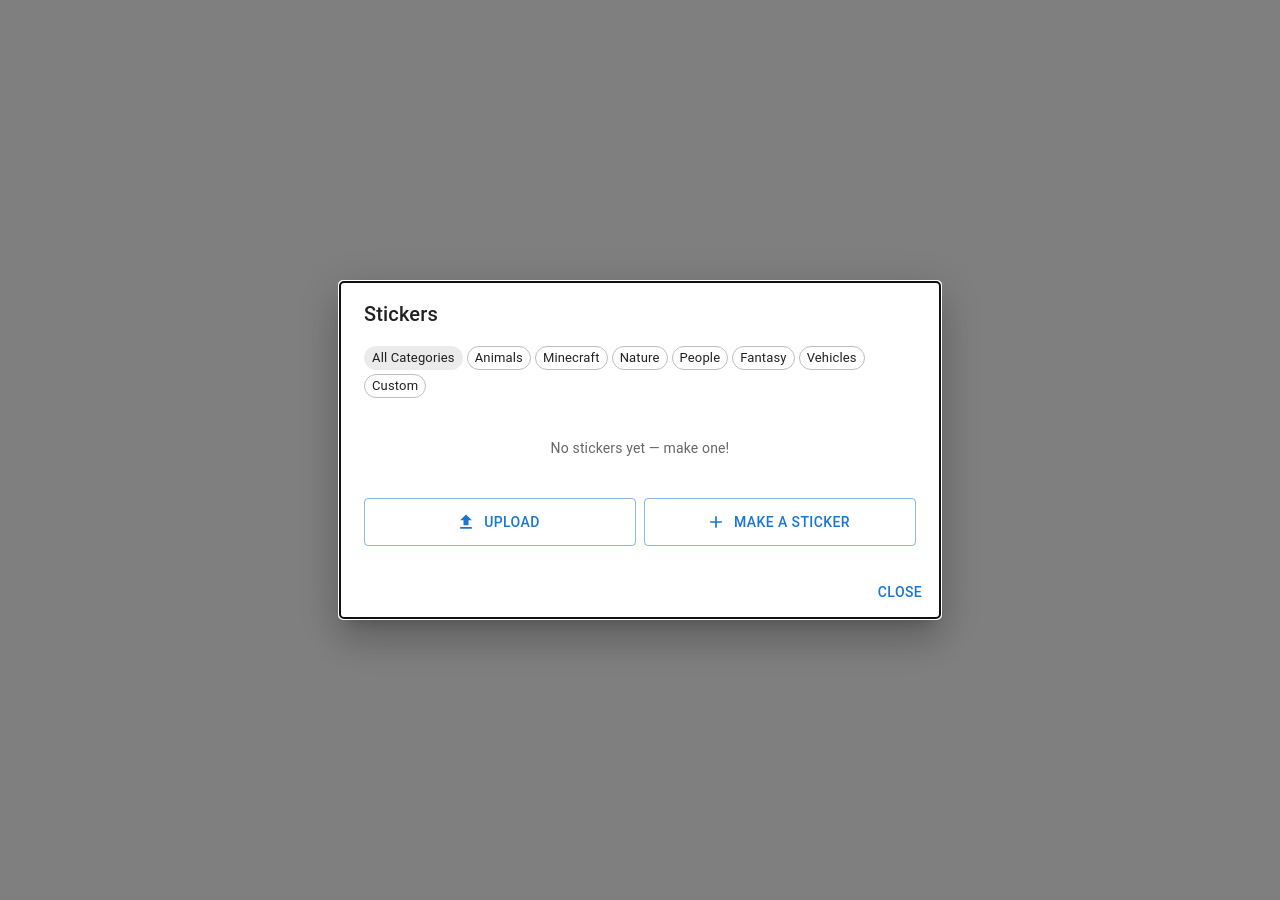
Test: StickerPicker — the in-book door tells the same truth › names the refusal and offers the server’s rewordings as taps
The width and height of the screenshot is (1280, 900).
Click the button "Make a sticker": x=780, y=522 [644,498,916,546]
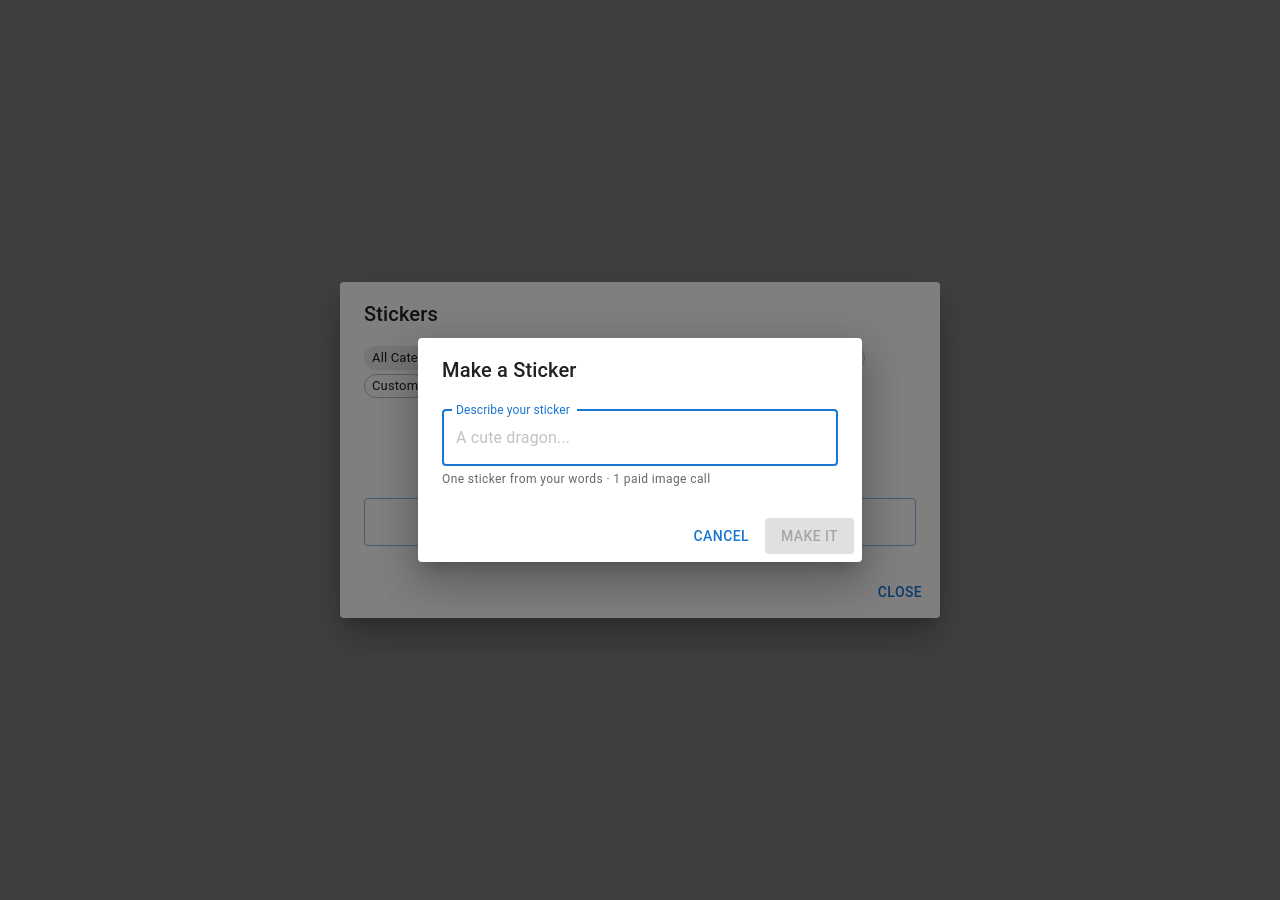
In the field labelled "Describe your sticker": x=640, y=438 [442,410,838,466], type "Mario"
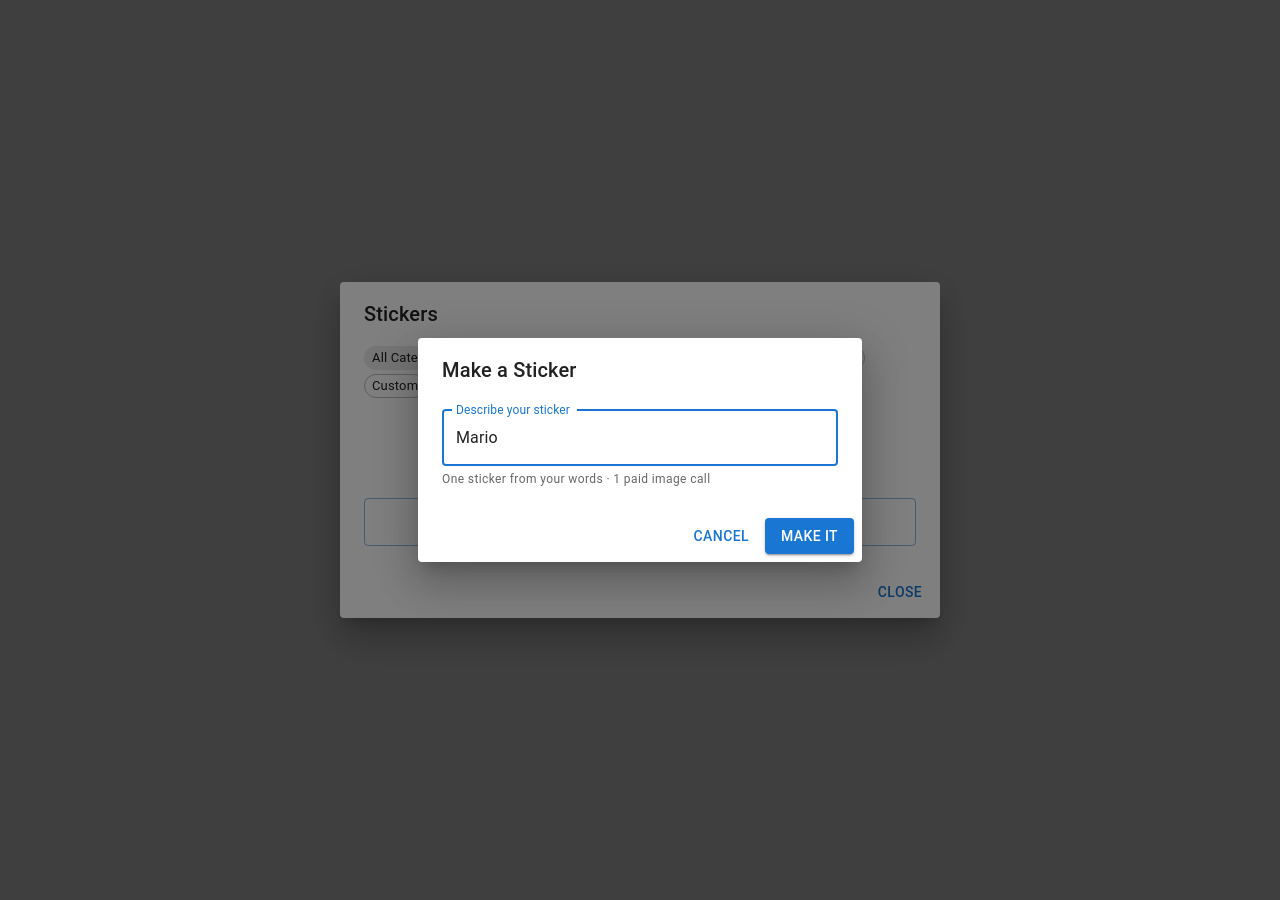
Click the button "Make it": x=810, y=536 [765,518,854,554]
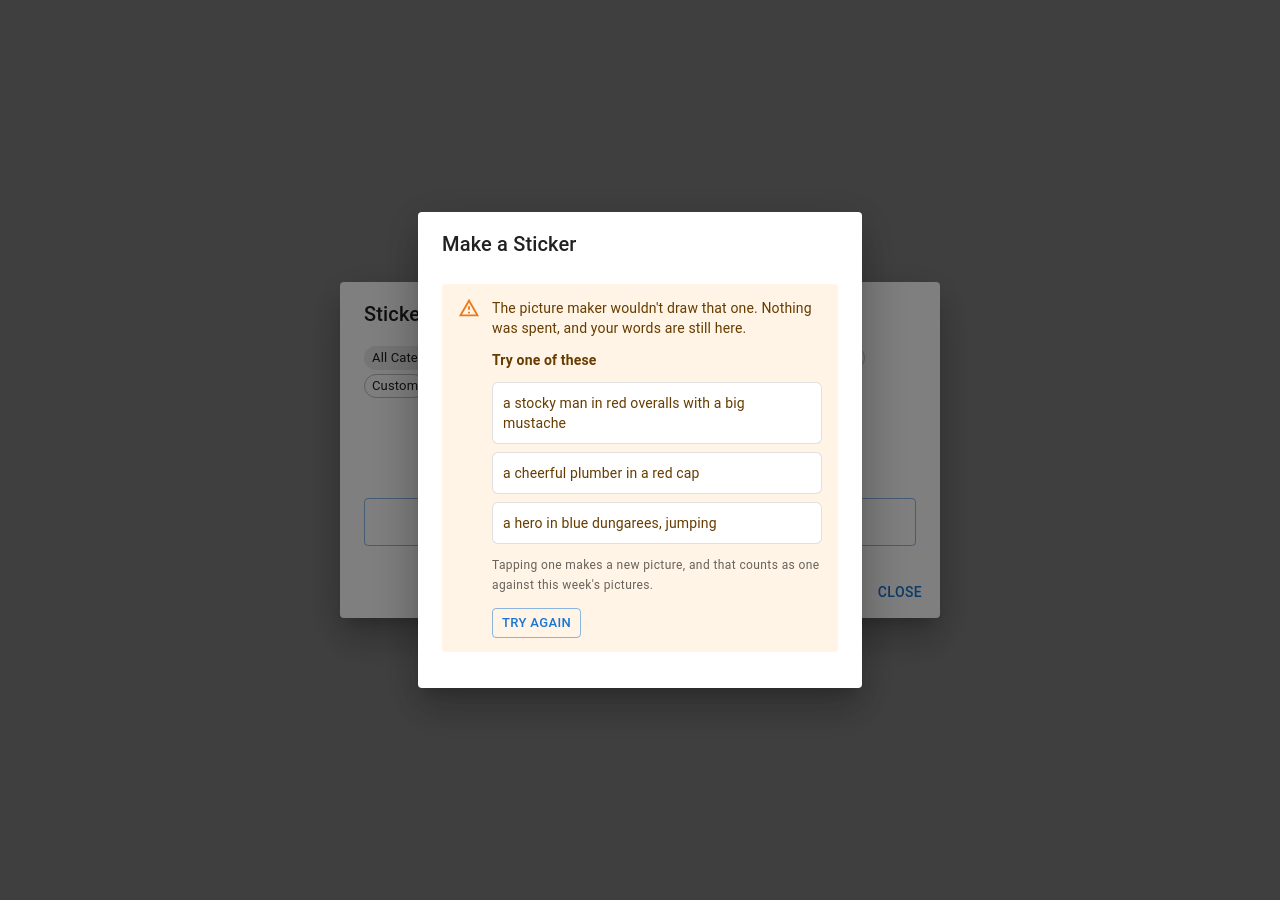
Now the text "wouldn't draw that one" is shown, box [492,300,812,336]
Now the button "a cheerful plumber in a red cap" is shown, box [492,452,822,494]
